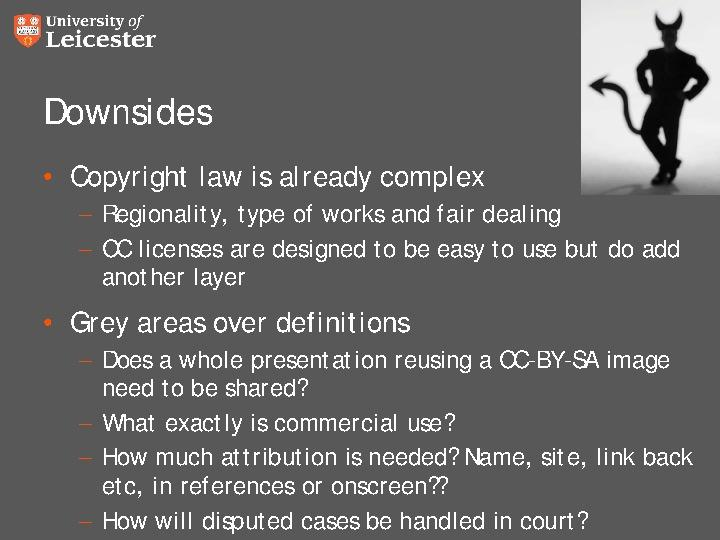paragraph: (29, 151, 703, 539)
subtitle: (30, 84, 221, 138)
title: (43, 9, 176, 63)
